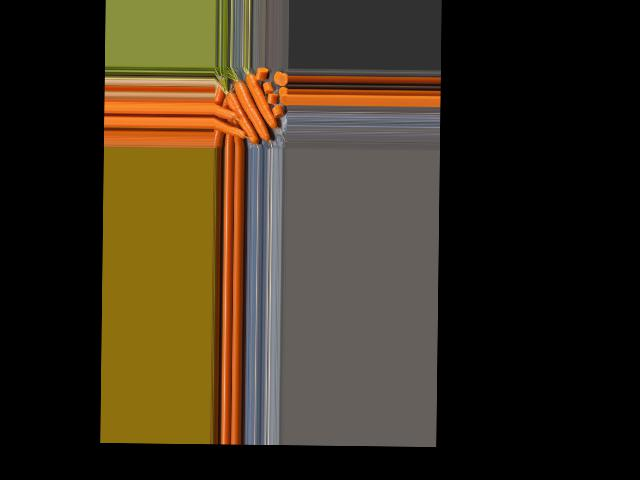carrot: (223, 91, 258, 145)
